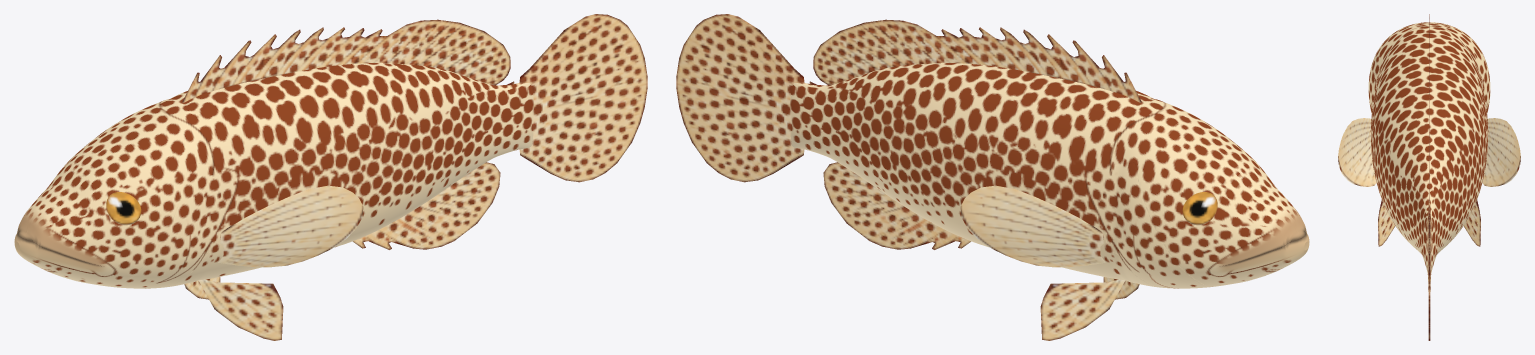
Rendered from kanmonhata-normal-v5.glb.
The picture shows the model from 3 angles, left to right: view 1: azimuth 30°, elevation 25°; view 2: azimuth 150°, elevation 25°; view 3: azimuth 270°, elevation 25°; orthographic projection. The views are drawn at different scales.
Visible parts, largest first — view 1: body, caudal, dorsal, pectoral_1, operculum_1, anal, pelvic_1, eye_1; view 2: body, caudal, dorsal, pectoral_-1, operculum_-1, anal, pelvic_-1, eye_-1; view 3: body, pectoral_-1, pectoral_1, caudal, pelvic_-1, pelvic_1, operculum_-1, operculum_1, dorsal.
Part boxes in pixels (x1=…): body: x1=14, y1=63, x2=533, y2=286; caudal: x1=519, y1=14, x2=647, y2=182; dorsal: x1=182, y1=19, x2=514, y2=102; pectoral_1: x1=218, y1=185, x2=363, y2=267; operculum_1: x1=114, y1=163, x2=237, y2=288; anal: x1=353, y1=162, x2=500, y2=249; pelvic_1: x1=198, y1=279, x2=283, y2=340; eye_1: x1=106, y1=192, x2=141, y2=225; body: x1=790, y1=63, x2=1309, y2=286; caudal: x1=676, y1=14, x2=804, y2=182; dorsal: x1=809, y1=19, x2=1141, y2=102; pectoral_-1: x1=960, y1=185, x2=1105, y2=267; operculum_-1: x1=1086, y1=163, x2=1209, y2=288; anal: x1=823, y1=162, x2=970, y2=249; pelvic_-1: x1=1040, y1=279, x2=1125, y2=340; eye_-1: x1=1182, y1=192, x2=1217, y2=225; body: x1=1370, y1=22, x2=1488, y2=272; pectoral_-1: x1=1482, y1=118, x2=1520, y2=186; pectoral_1: x1=1338, y1=118, x2=1376, y2=186; caudal: x1=1426, y1=200, x2=1432, y2=340; pelvic_-1: x1=1464, y1=199, x2=1480, y2=246; pelvic_1: x1=1378, y1=199, x2=1394, y2=246; operculum_-1: x1=1476, y1=50, x2=1490, y2=113; operculum_1: x1=1368, y1=50, x2=1382, y2=113; dorsal: x1=1429, y1=14, x2=1429, y2=199.
Bounding box in the file's own units: 0.2502 × 0.1056 × 0.0768.
Materials: 3 (3 with a texture image).
